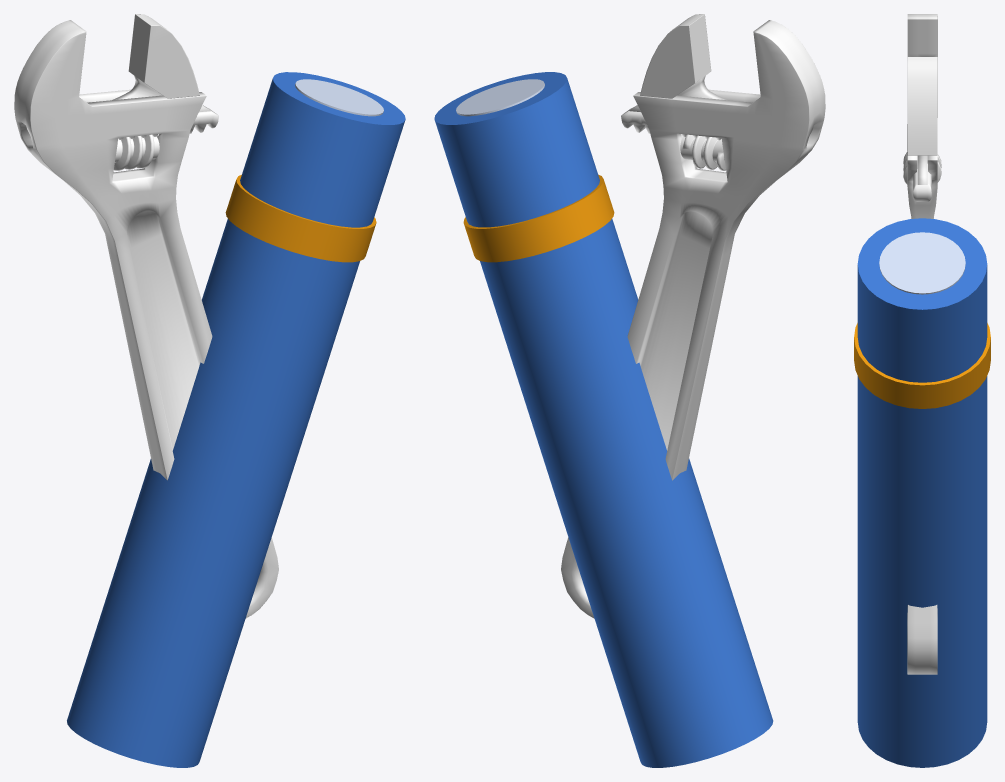
Rendered from classic.glb.
3 renders of one model, left to right at view 1: azimuth 30°, elevation 25°; view 2: azimuth 150°, elevation 25°; view 3: azimuth 270°, elevation 25°, orthographic. The views are drawn at different scales.
Visible parts, largest first — view 1: grip_pos, grip_neg; view 2: grip_pos, grip_neg; view 3: grip_pos, grip_neg.
Boxes of the visible parts, box(x1,y1,x2,y2) form: grip_pos: box(67, 72, 405, 767); grip_neg: box(14, 14, 278, 618); grip_pos: box(434, 72, 773, 767); grip_neg: box(561, 14, 825, 618); grip_pos: box(854, 218, 990, 767); grip_neg: box(903, 14, 941, 674).
Bounding box in the file's own units: 0.1563 × 0.3002 × 0.0532.
